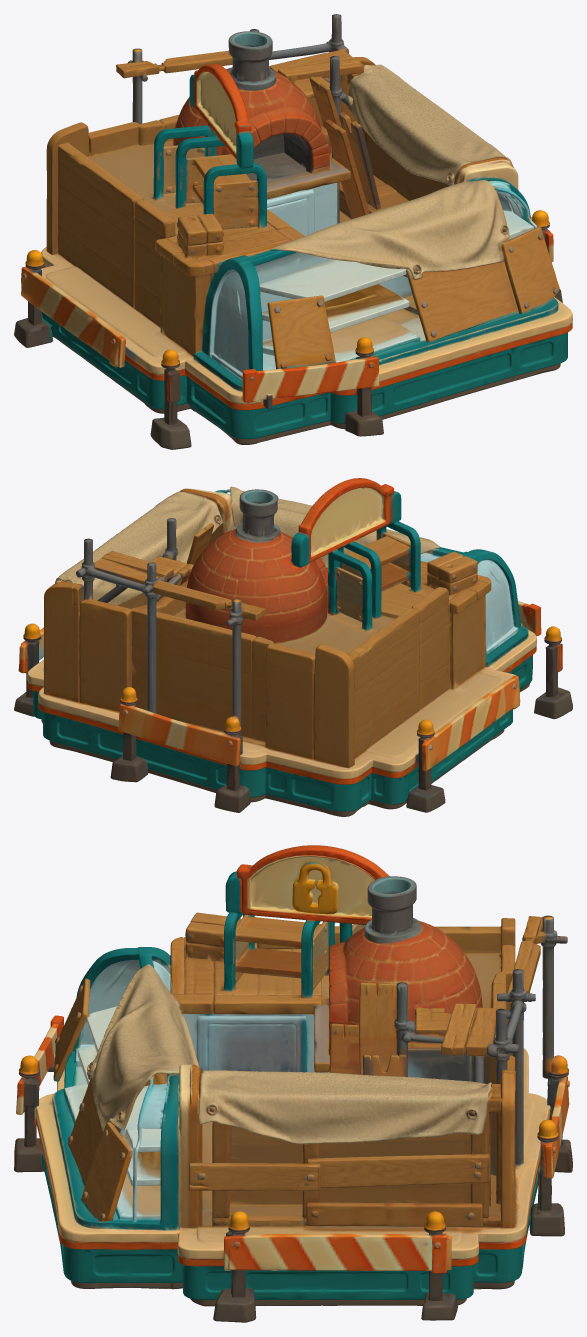
The model's file is BakeryConstruction.glb.
The picture shows the model from 3 angles, top to bottom: view 1: azimuth 30°, elevation 25°; view 2: azimuth 150°, elevation 25°; view 3: azimuth 270°, elevation 25°; orthographic projection. The views are drawn at different scales.
Visible parts, largest first — view 1: tripo_node_caca0b7b-a899-4ee5-aa6f-c0f7bec2eaae; view 2: tripo_node_caca0b7b-a899-4ee5-aa6f-c0f7bec2eaae; view 3: tripo_node_caca0b7b-a899-4ee5-aa6f-c0f7bec2eaae.
Boxes of the visible parts, left/top/right/bottom form: tripo_node_caca0b7b-a899-4ee5-aa6f-c0f7bec2eaae: left=14, top=14, right=572, bottom=449; tripo_node_caca0b7b-a899-4ee5-aa6f-c0f7bec2eaae: left=14, top=478, right=572, bottom=816; tripo_node_caca0b7b-a899-4ee5-aa6f-c0f7bec2eaae: left=14, top=845, right=572, bottom=1322.
Bounding box in the file's own units: 0.9803 × 0.5707 × 0.9227.
1 material, 1 textured.
